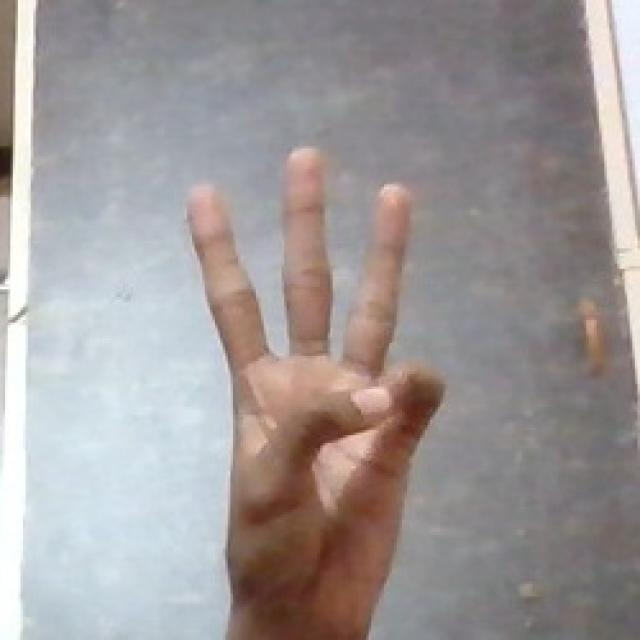Numeric-6: (166, 137, 441, 640)
